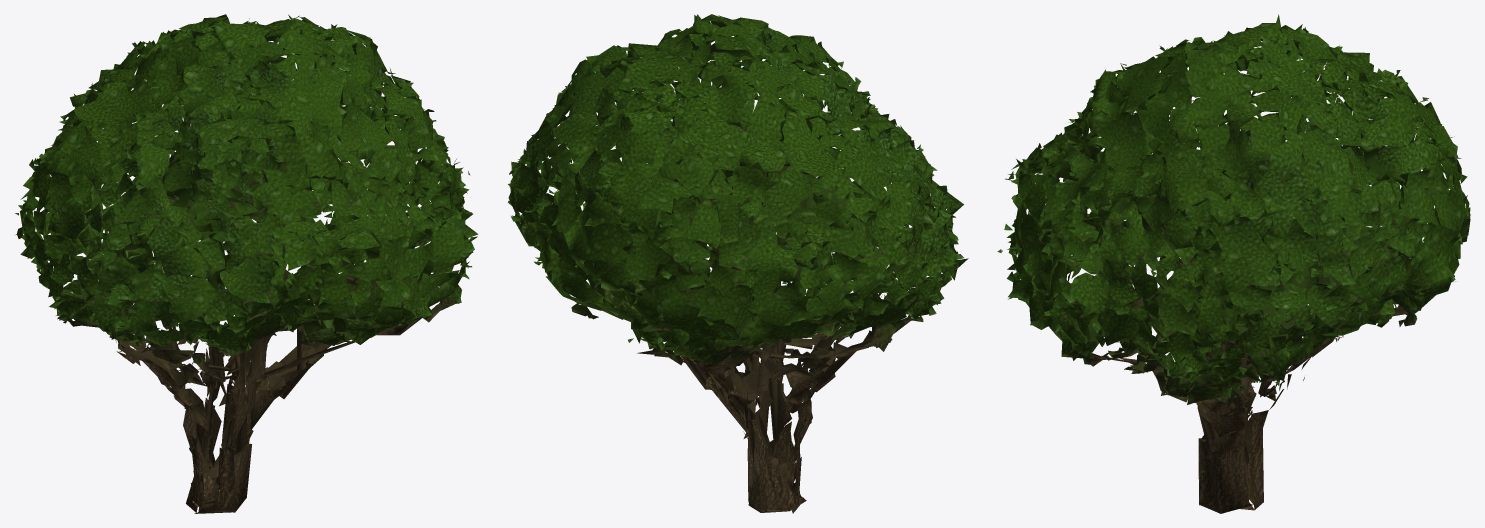
Rendered from planta1.glb.
The picture shows the model from 3 angles, left to right: view 1: azimuth 30°, elevation 25°; view 2: azimuth 150°, elevation 25°; view 3: azimuth 270°, elevation 25°; orthographic projection. The views are drawn at different scales.
Visible parts, largest first — view 1: tripo_node_b6b704bb-d4da-444c-b563-52bd0be8d6ae; view 2: tripo_node_b6b704bb-d4da-444c-b563-52bd0be8d6ae; view 3: tripo_node_b6b704bb-d4da-444c-b563-52bd0be8d6ae.
Part boxes in pixels (left/top/right/bottom): tripo_node_b6b704bb-d4da-444c-b563-52bd0be8d6ae: left=15, top=14, right=478, bottom=513; tripo_node_b6b704bb-d4da-444c-b563-52bd0be8d6ae: left=508, top=14, right=968, bottom=513; tripo_node_b6b704bb-d4da-444c-b563-52bd0be8d6ae: left=997, top=14, right=1470, bottom=513.
Bounding box in the file's own units: 0.9188 × 1.01 × 0.865.
Materials: 1 (1 with a texture image).
